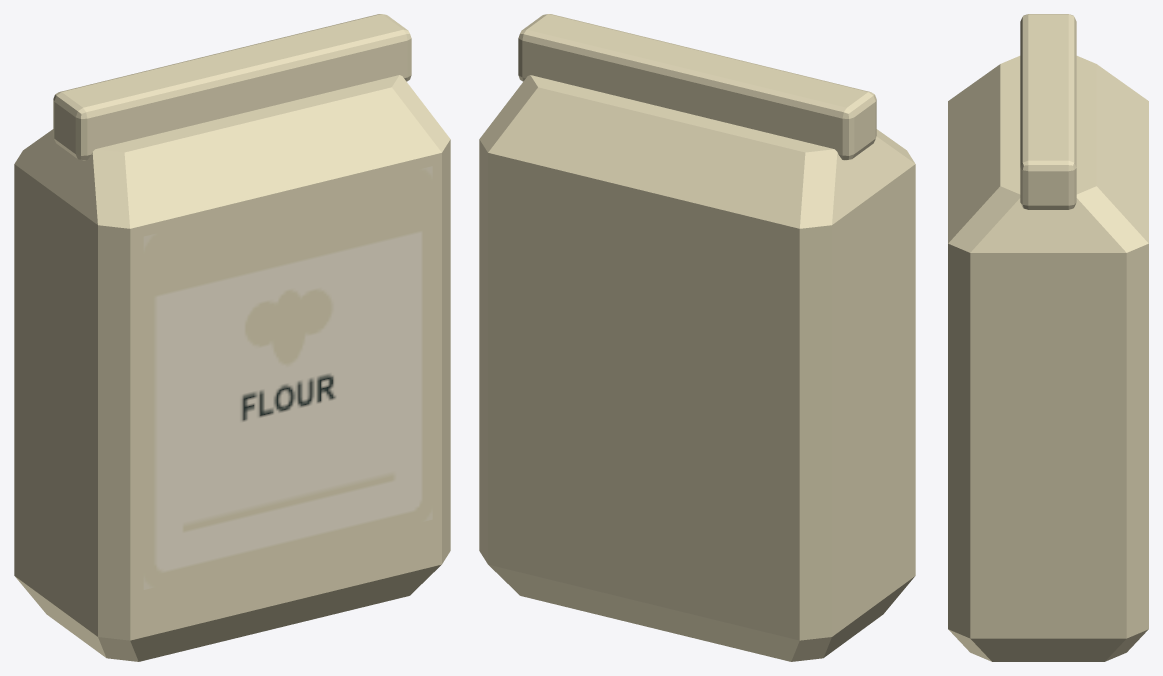
The model's file is flour.fbx.
3 renders of one model, left to right at view 1: azimuth 30°, elevation 25°; view 2: azimuth 150°, elevation 25°; view 3: azimuth 270°, elevation 25°, orthographic. The views are drawn at different scales.
Visible parts, largest first — view 1: flour; view 2: flour; view 3: flour.
Part boxes in pixels (x1=…): flour: x1=14, y1=14, x2=450, y2=661; flour: x1=479, y1=14, x2=915, y2=661; flour: x1=948, y1=14, x2=1148, y2=661.
Size of the model in its own units: 19 by 27.67 by 10.2.
